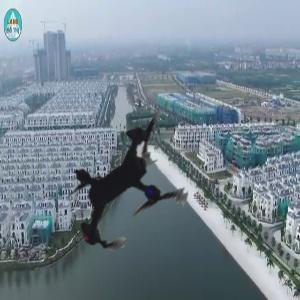drone: (17, 78, 239, 300)
